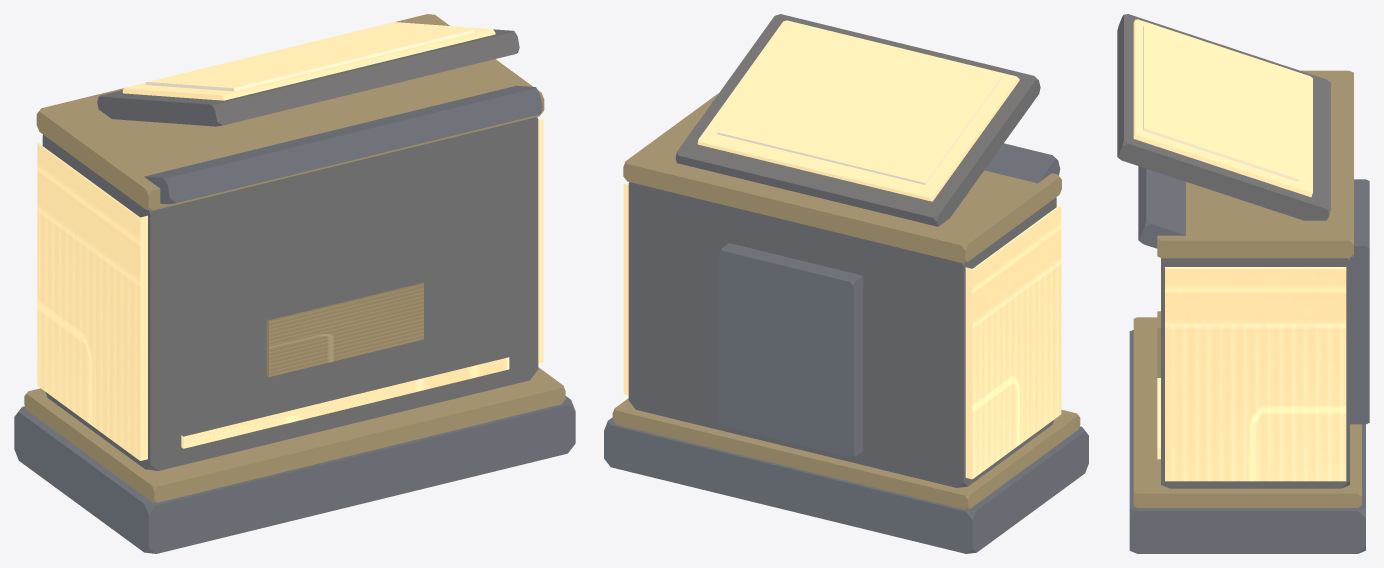
Rendered from room_l610_identity_playback_terminal.glb.
3 renders of one model, left to right at view 1: azimuth 30°, elevation 25°; view 2: azimuth 150°, elevation 25°; view 3: azimuth 270°, elevation 25°, orthographic. The views are drawn at different scales.
Visible parts, largest first — view 1: ipt_body, ipt_base_plinth, ipt_amber_edge_left, ipt_brass_frame_top, ipt_base_brass_rail, ipt_deck, ipt_screen_bezel, ipt_screen_brass_trim, ipt_front_brass_plate, ipt_amber_lower_strip, ipt_amber_edge_right, ipt_screen; view 2: ipt_body, ipt_screen_brass_trim, ipt_back_cable_trunk, ipt_base_plinth, ipt_amber_edge_left, ipt_brass_frame_top, ipt_screen_bezel, ipt_base_brass_rail, ipt_deck, ipt_amber_edge_right, ipt_screen; view 3: ipt_amber_edge_right, ipt_screen_brass_trim, ipt_brass_frame_top, ipt_base_plinth, ipt_screen_bezel, ipt_base_brass_rail, ipt_body, ipt_back_cable_trunk, ipt_deck, ipt_screen, ipt_amber_lower_strip.
Boxes of the visible parts, x1=… form: ipt_body: x1=42, y1=117, x2=538, y2=470; ipt_base_plinth: x1=14, y1=396, x2=575, y2=553; ipt_amber_edge_left: x1=37, y1=142, x2=147, y2=460; ipt_brass_frame_top: x1=36, y1=14, x2=544, y2=210; ipt_base_brass_rail: x1=24, y1=367, x2=565, y2=502; ipt_deck: x1=144, y1=85, x2=542, y2=204; ipt_screen_bezel: x1=97, y1=29, x2=519, y2=126; ipt_screen_brass_trim: x1=122, y1=22, x2=495, y2=100; ipt_front_brass_plate: x1=266, y1=282, x2=423, y2=376; ipt_amber_lower_strip: x1=181, y1=357, x2=509, y2=448; ipt_amber_edge_right: x1=538, y1=119, x2=543, y2=363; ipt_screen: x1=145, y1=29, x2=474, y2=91; ipt_body: x1=628, y1=182, x2=1056, y2=487; ipt_screen_brass_trim: x1=697, y1=20, x2=1019, y2=201; ipt_back_cable_trunk: x1=719, y1=243, x2=863, y2=457; ipt_base_plinth: x1=604, y1=417, x2=1088, y2=553; ipt_amber_edge_left: x1=965, y1=204, x2=1061, y2=479; ipt_brass_frame_top: x1=623, y1=93, x2=1061, y2=262; ipt_screen_bezel: x1=675, y1=14, x2=1040, y2=226; ipt_base_brass_rail: x1=612, y1=398, x2=1080, y2=509; ipt_deck: x1=984, y1=143, x2=1060, y2=183; ipt_amber_edge_right: x1=623, y1=184, x2=628, y2=395; ipt_screen: x1=717, y1=77, x2=1001, y2=184; ipt_amber_edge_right: x1=1165, y1=267, x2=1346, y2=481; ipt_screen_brass_trim: x1=1133, y1=19, x2=1312, y2=197; ipt_brass_frame_top: x1=1157, y1=70, x2=1353, y2=258; ipt_base_plinth: x1=1129, y1=330, x2=1365, y2=553; ipt_screen_bezel: x1=1117, y1=14, x2=1330, y2=220; ipt_base_brass_rail: x1=1133, y1=317, x2=1361, y2=507; ipt_body: x1=1161, y1=258, x2=1349, y2=488; ipt_back_cable_trunk: x1=1350, y1=179, x2=1369, y2=424; ipt_deck: x1=1138, y1=166, x2=1185, y2=248; ipt_screen: x1=1143, y1=25, x2=1298, y2=181; ipt_amber_lower_strip: x1=1157, y1=378, x2=1160, y2=459.
Size of the model in its own units: 1.1 by 1.08 by 0.6417.
7 materials, 7 textured.
